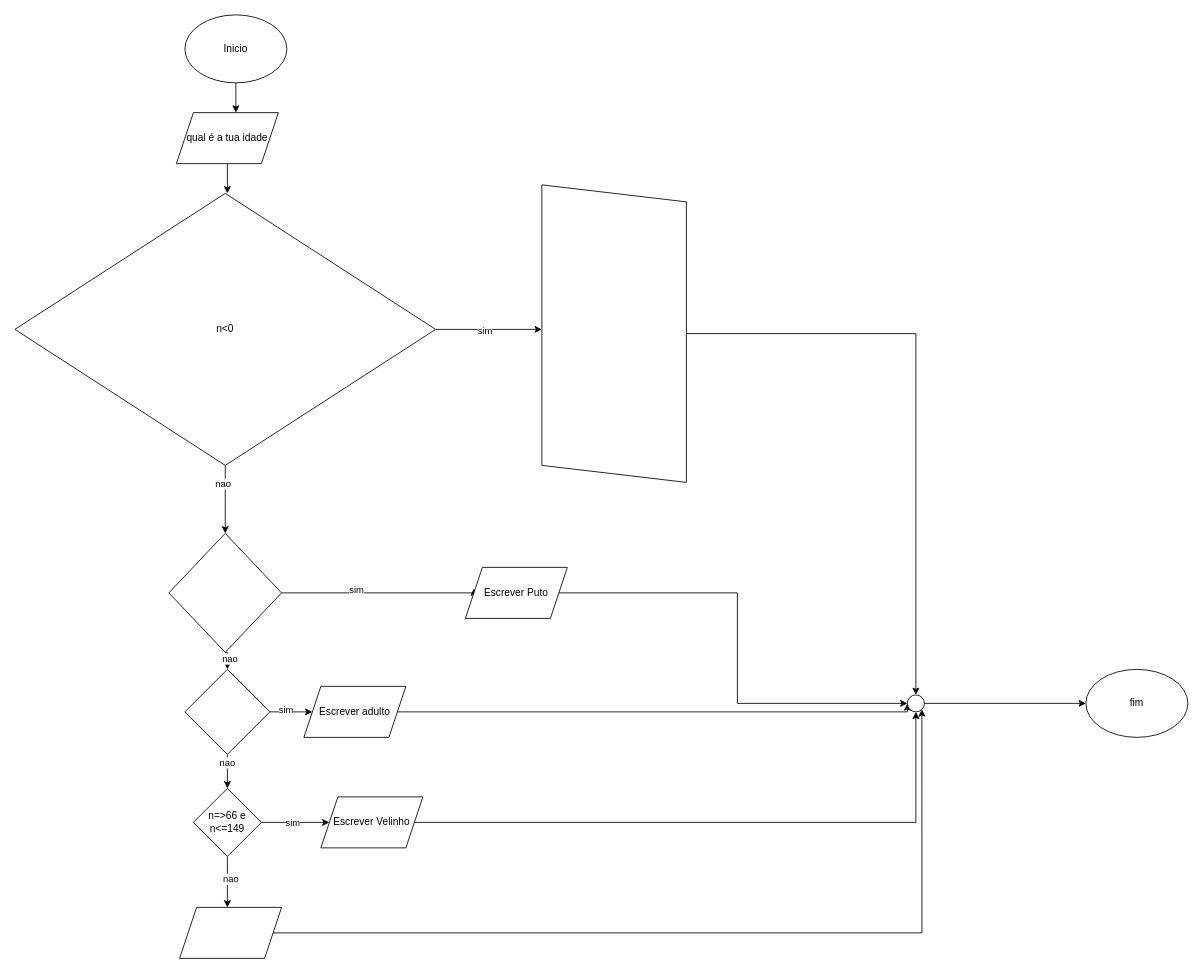
The diagram is 1203 pixels wide and 973 high, and some of its shapes have lost their labels. The shapes that lost their labels are listed below. From the top down, each one's centre as x and y in pixels, then its label:
point (613, 333): Meteste água.Aguarda processo de secagem.
point (225, 592): n>0 e n<=17
point (227, 711): n=>18 e n=<65
point (230, 932): Escrever Dinossauro
